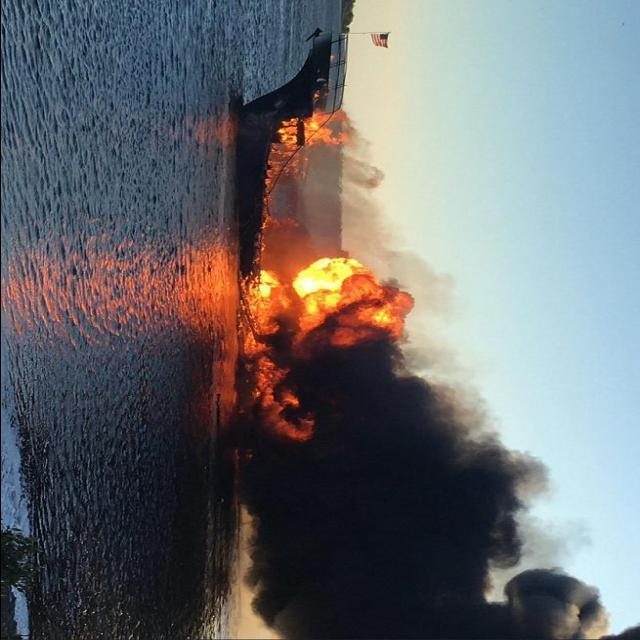Fire: (239, 267, 416, 407), (270, 114, 356, 158)
